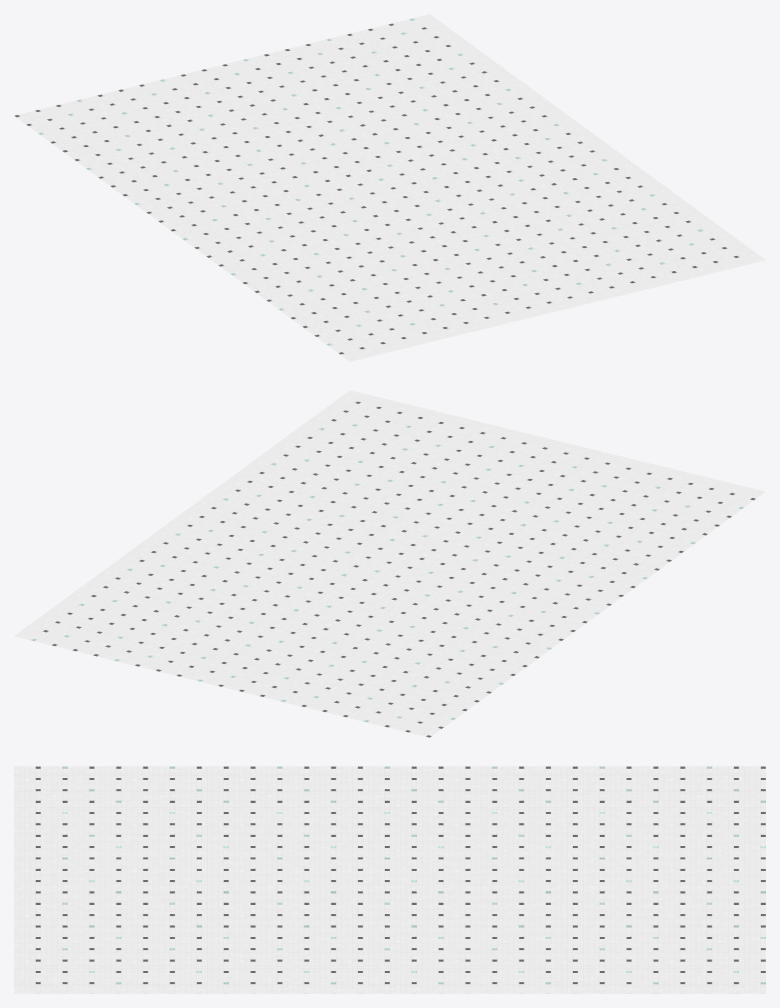
File: Ceiling.glb
3 renders of one model, top to bottom at view 1: azimuth 30°, elevation 25°; view 2: azimuth 150°, elevation 25°; view 3: azimuth 270°, elevation 25°, orthographic. The views are drawn at different scales.
Parts seen in each view (by area): view 1: Ceiling; view 2: Ceiling; view 3: Ceiling.
Boxes of the visible parts, x1,y1,x2,y2 form: Ceiling: [14, 14, 765, 361]; Ceiling: [14, 390, 765, 737]; Ceiling: [14, 766, 765, 993].
Bounding box in the file's own units: 60 × 0 × 84.
1 material, 1 textured.
